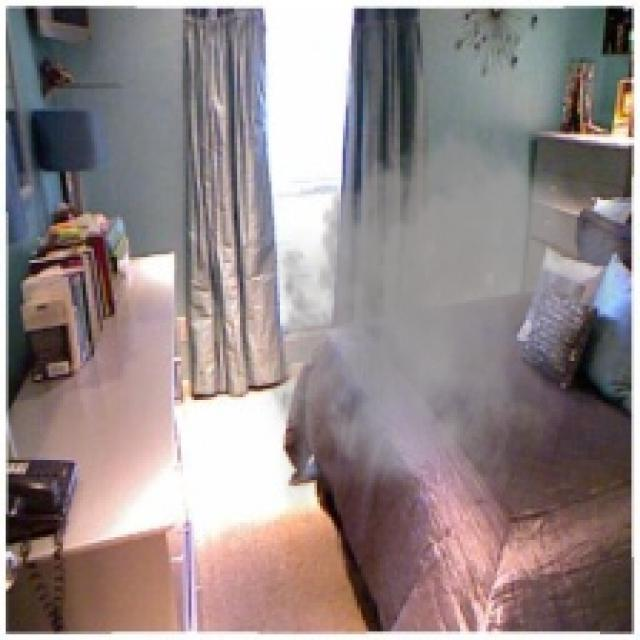Smoke: (252, 111, 634, 523)
